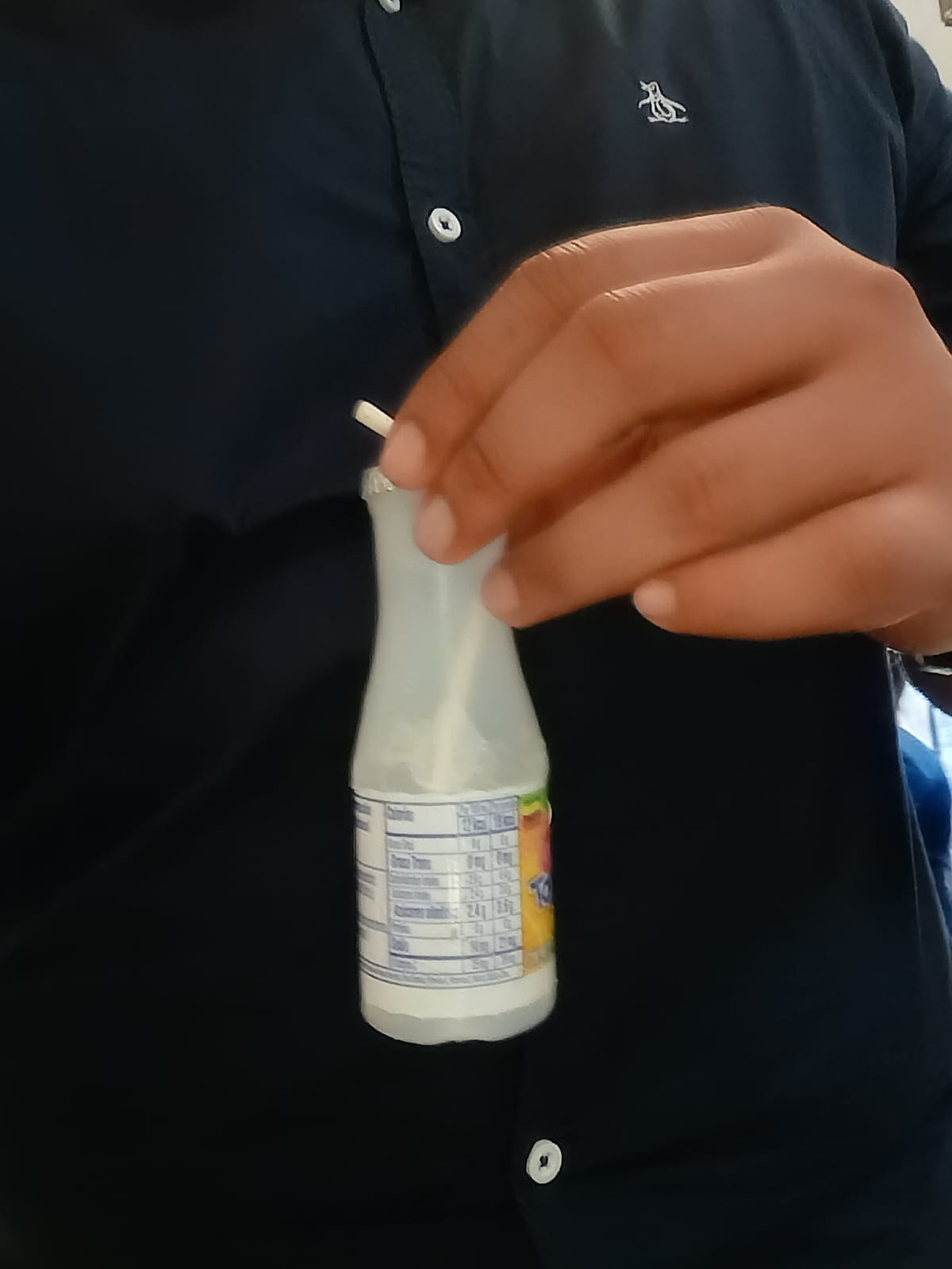Plastico: (354, 458, 556, 1041)
